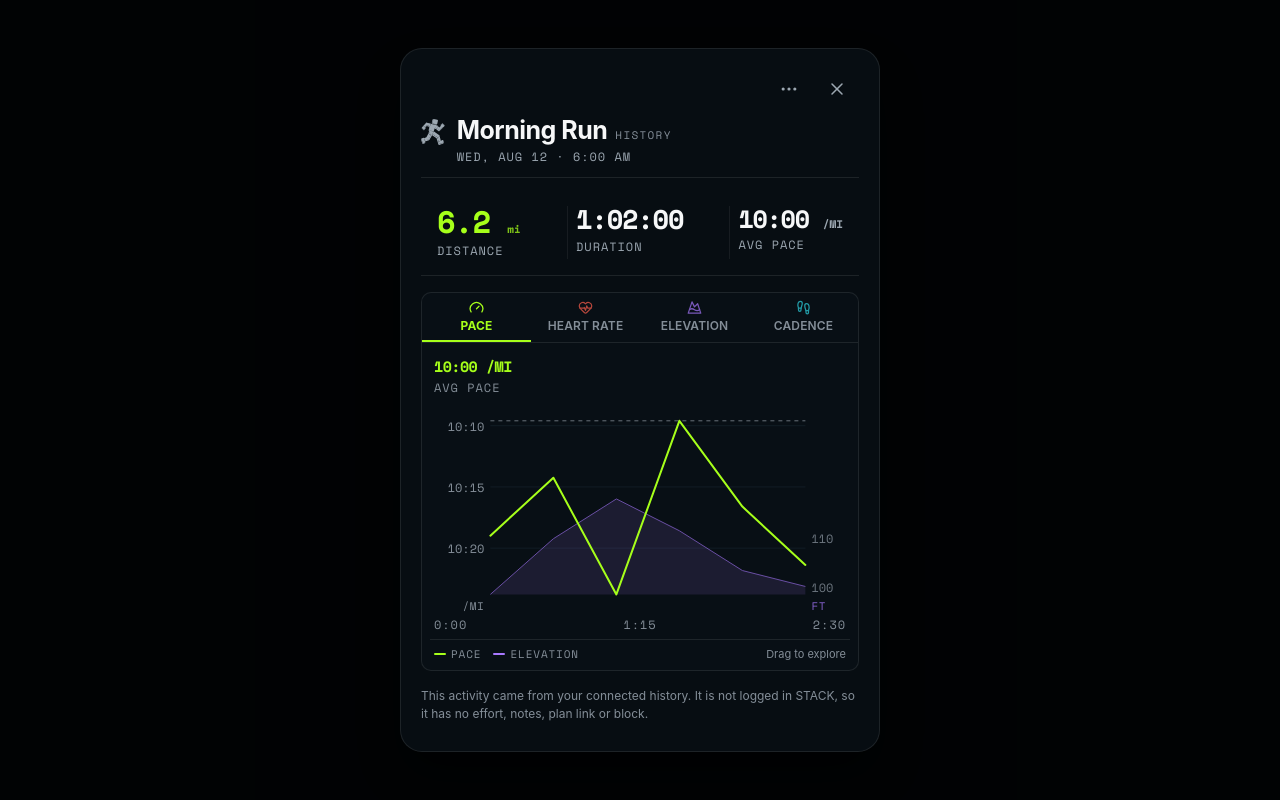
Test: historical-only source truth › shows cadence exactly as the source stated it, undoubled and unlabelled
Click the button "Cadence" at (804, 318), box [749,293,858,342]
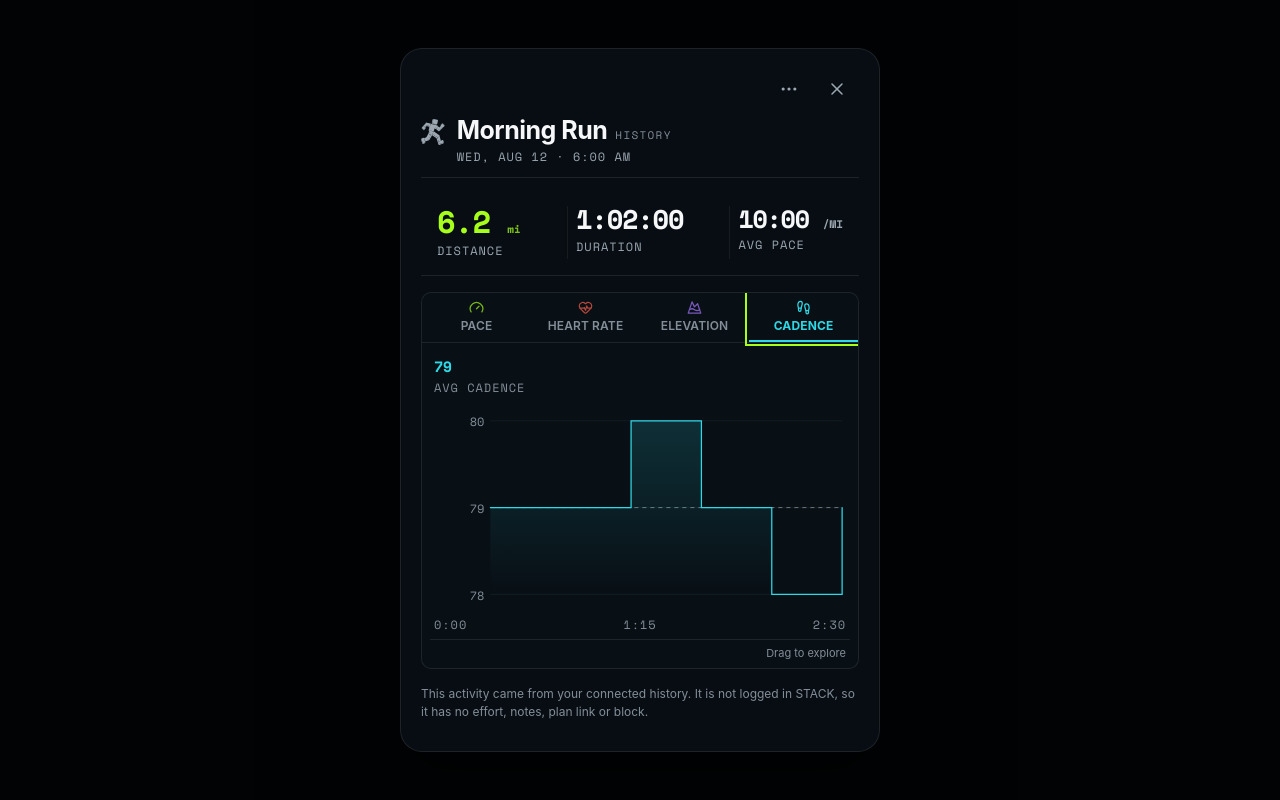
Expected: the text "79" is shown, [434,355,451,377]
Expected: the text "Avg cadence" is shown, [434,379,525,396]
